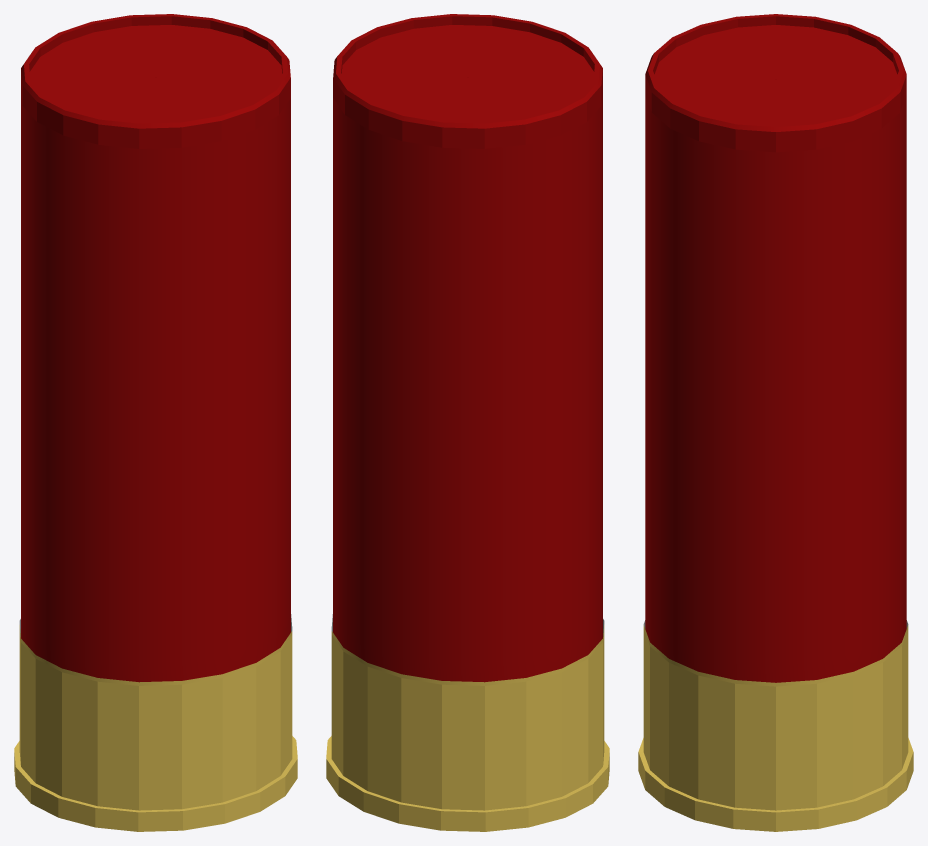
Rendered from Shotgunshell.fbx.
3 renders of one model, left to right at view 1: azimuth 30°, elevation 25°; view 2: azimuth 150°, elevation 25°; view 3: azimuth 270°, elevation 25°, orthographic.
Parts seen in each view (by area): view 1: shell; view 2: shell; view 3: shell.
Boxes of the visible parts, bbox=[...] form: shell: bbox=[14, 14, 297, 831]; shell: bbox=[326, 14, 609, 831]; shell: bbox=[638, 14, 913, 831].
Size of the model in its own units: 1.36 by 3.65 by 1.3.
